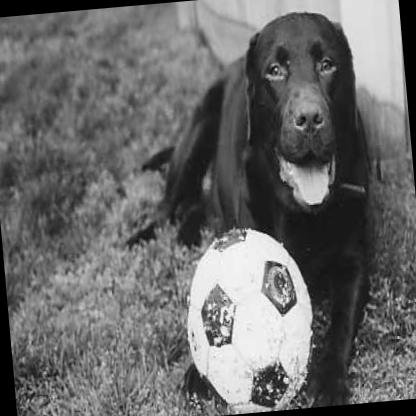ball: (180, 221, 322, 416)
